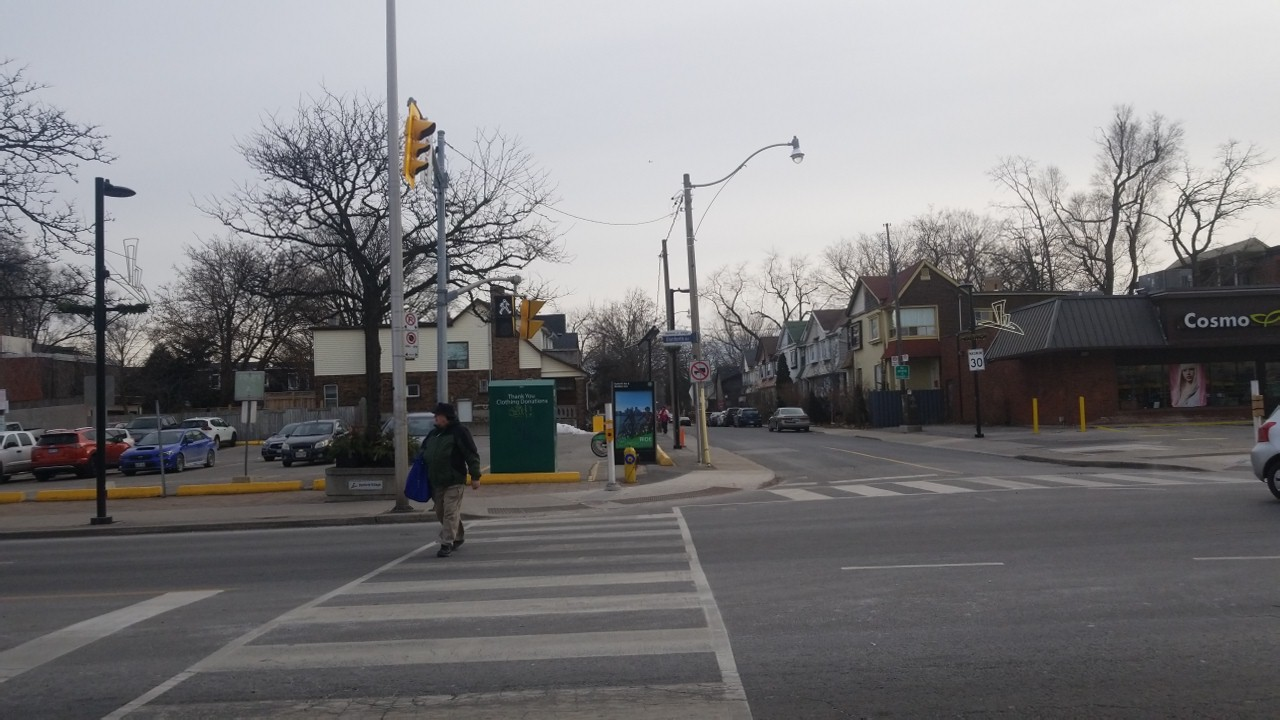light: (489, 291, 520, 343)
